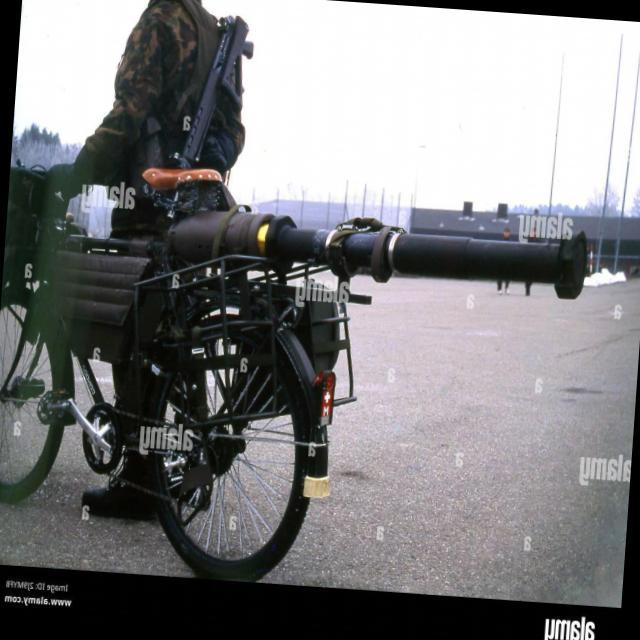rocket: (174, 188, 596, 311)
